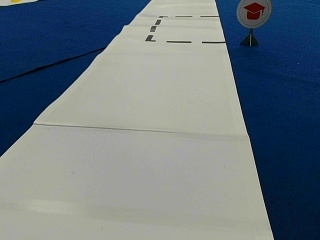school: (235, 1, 271, 28)
